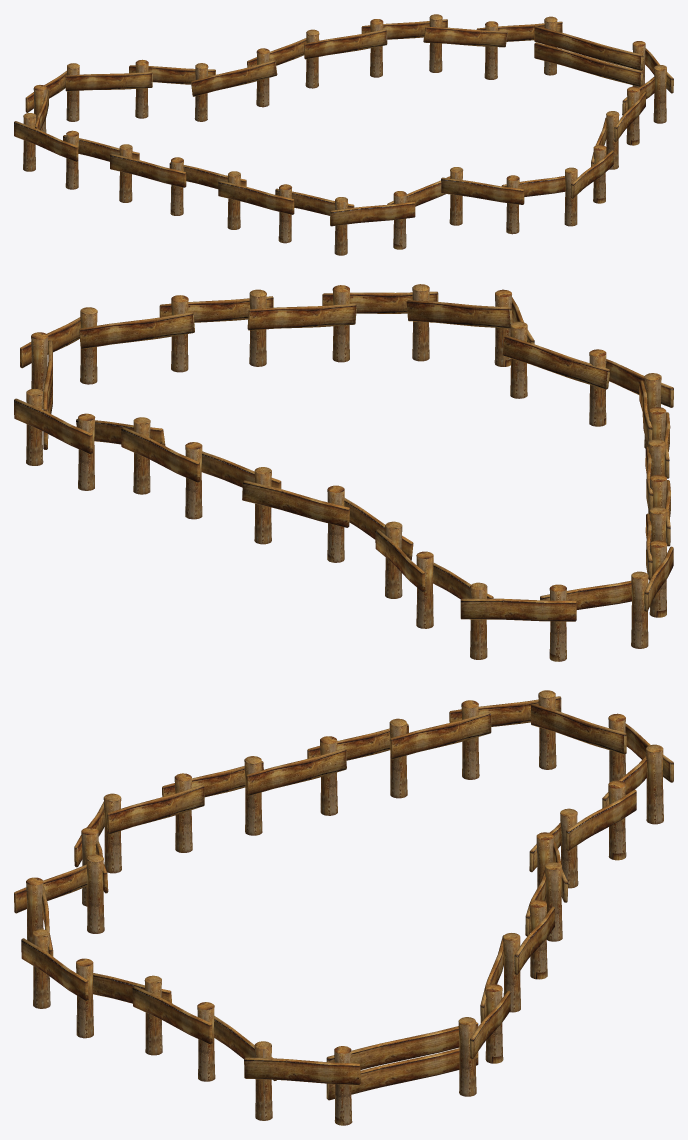
Rendered from fence.FBX.
3 renders of one model, top to bottom at view 1: azimuth 30°, elevation 25°; view 2: azimuth 150°, elevation 25°; view 3: azimuth 270°, elevation 25°, orthographic. The views are drawn at different scales.
Visible parts, largest first — view 1: Ohrada; view 2: Ohrada; view 3: Ohrada.
Boxes of the visible parts, x1=… form: Ohrada: x1=14, y1=14, x2=673, y2=255; Ohrada: x1=14, y1=284, x2=673, y2=661; Ohrada: x1=14, y1=690, x2=673, y2=1125.
Size of the model in its own units: 569 by 69.17 by 434.
Materials: 1 (1 with a texture image).
